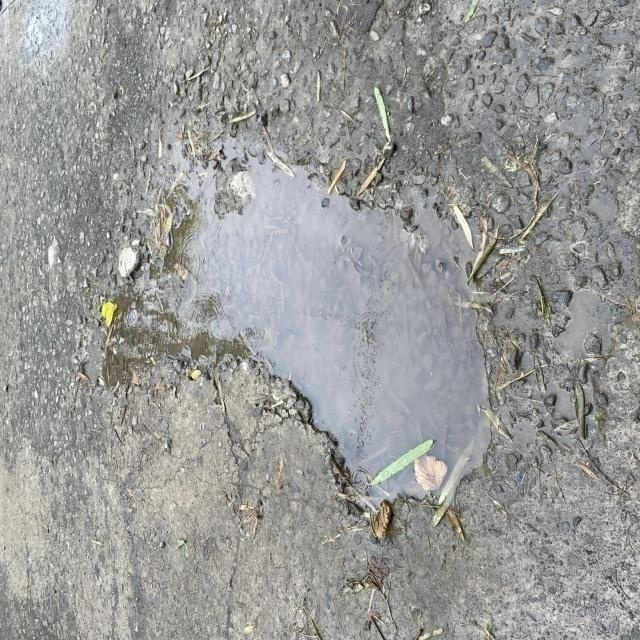pothole: (0, 36, 615, 588)
